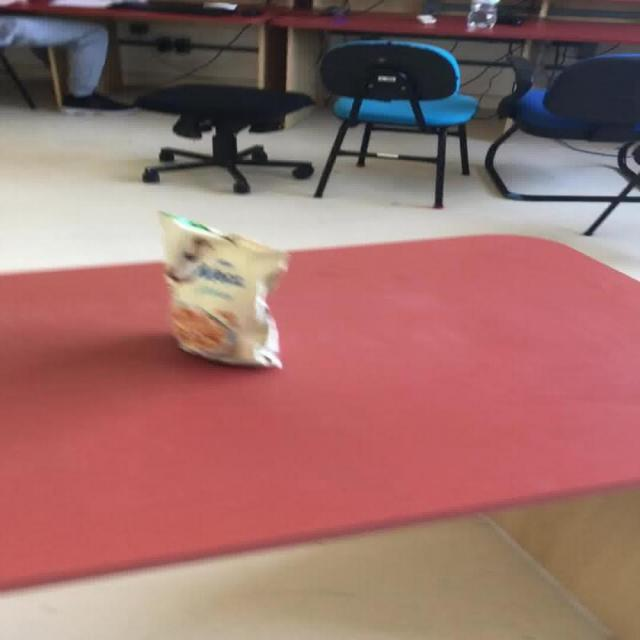CornFlakes: (155, 209, 290, 369)
